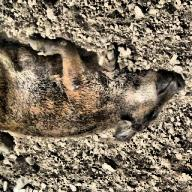boar: (0, 30, 185, 144)
